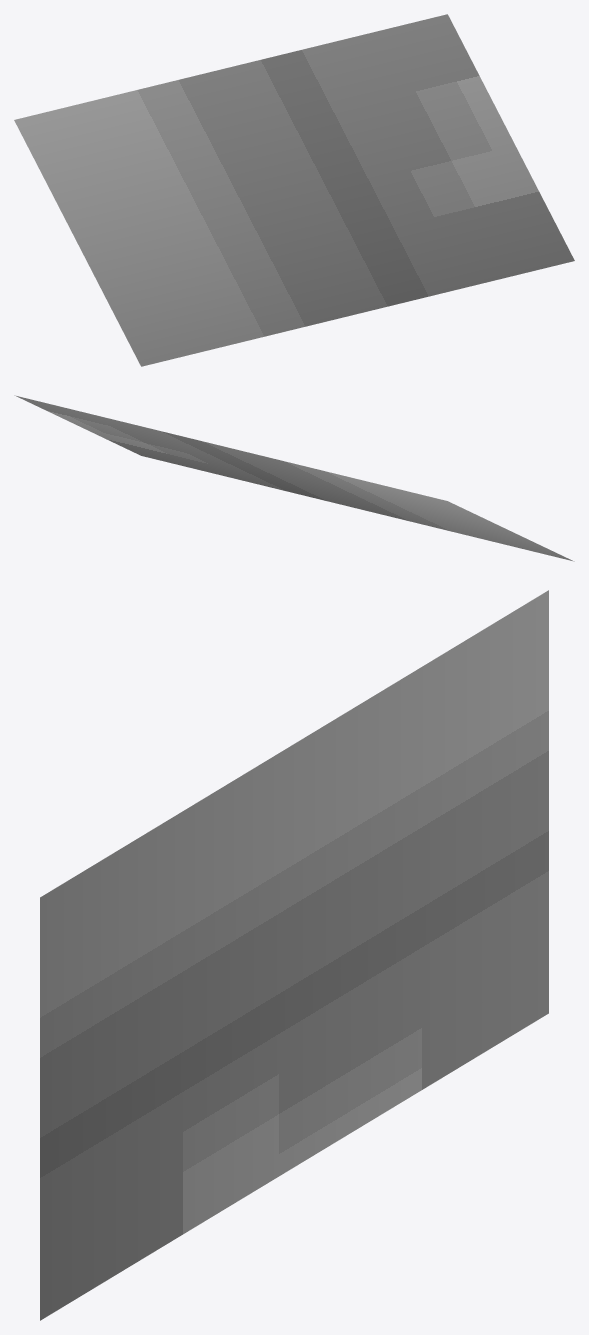
3 renders of one model, top to bottom at view 1: azimuth 30°, elevation 25°; view 2: azimuth 150°, elevation 25°; view 3: azimuth 270°, elevation 25°, orthographic. The views are drawn at different scales.
Bounding box in the file's own units: 0.9844 × 0.3333 × 0.5.
1 material, 1 textured.
